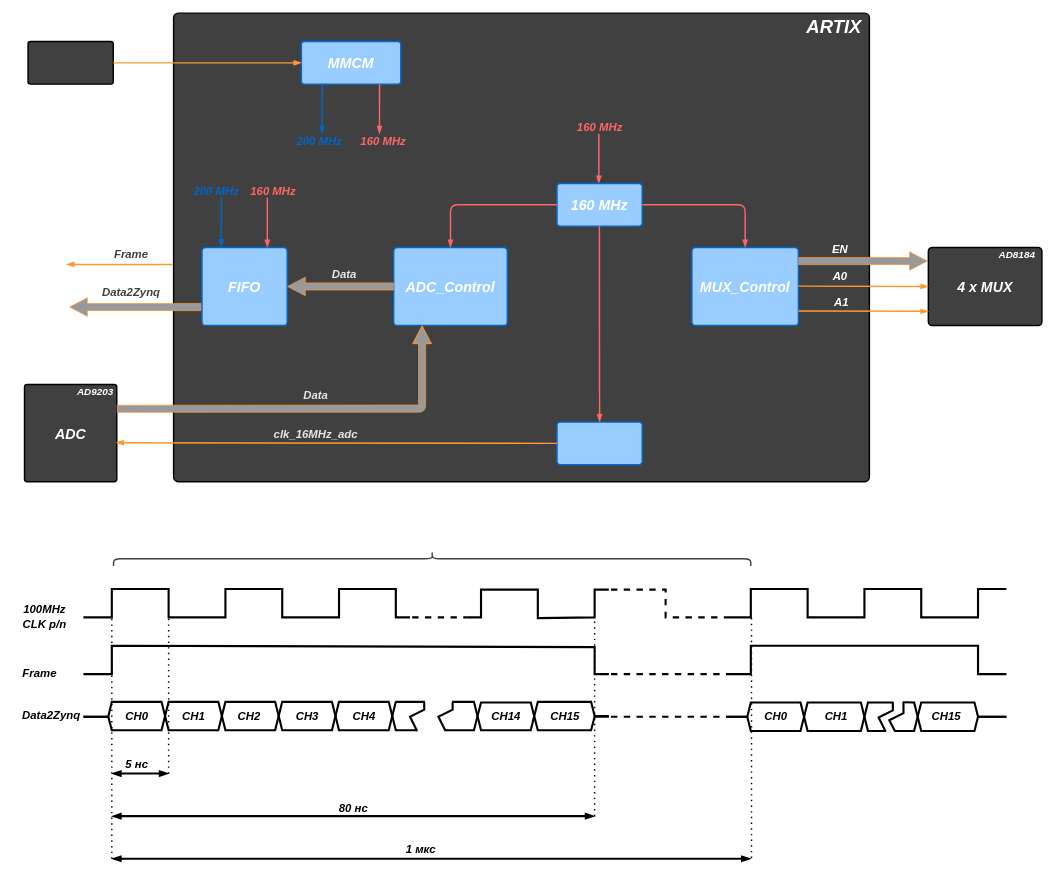
Some shapes in this 1055 by 878 pixel diagram are drawn without their labels. Here are the shapes that lost their labels. From the top down, the centre of each, then its label:
the point at 70,62: 40 MHz
the point at 599,443: 16 MHz
the point at 432,558: 1 пакет передачи данных с Artix на Zynq
